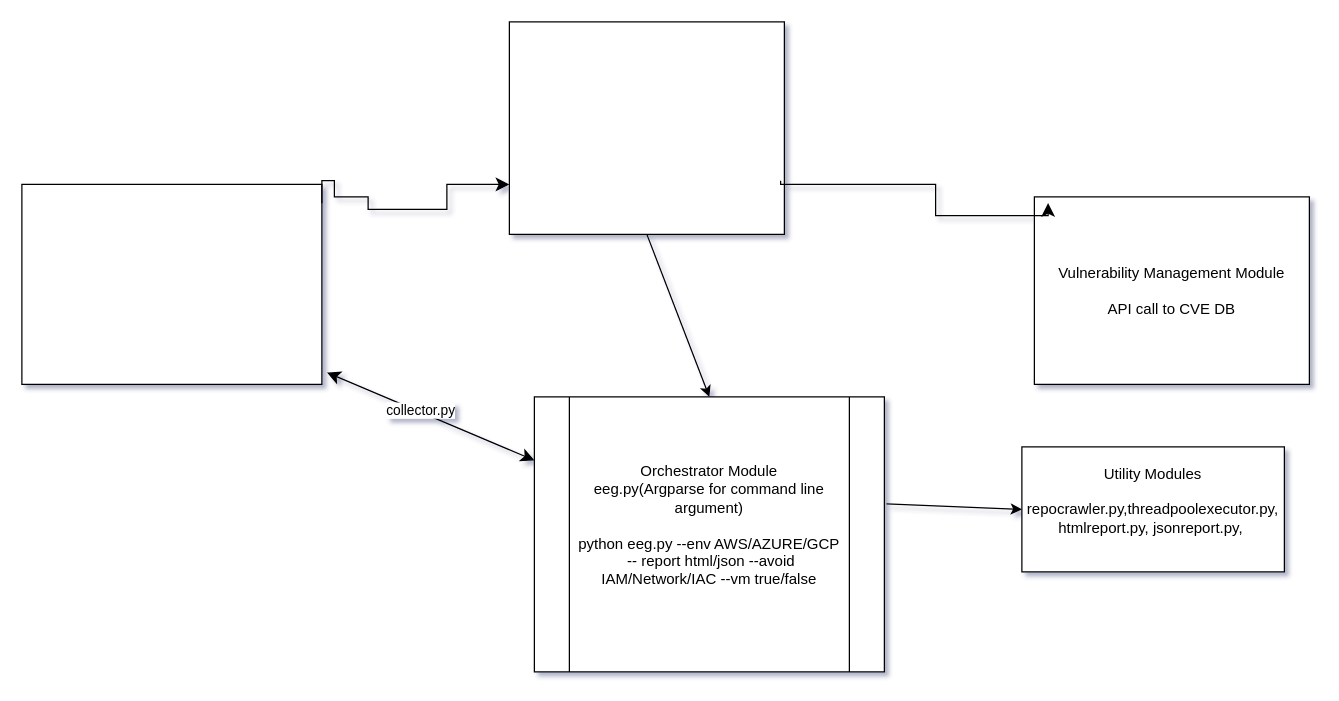
The diagram is 1339 pixels wide and 701 high, and some of its shapes have lost their labels. Each missing label, with the centre of its shape:
"Detector Module IAM+S3+Guardrail+Model+IAC+other etc vulnerble tests" goes at (x=171, y=283).
"Environment Rule Module AWS/rule.yaml+AZURE/rule.yaml+GCP/rule.yaml #regex_rules" goes at (x=646, y=127).
